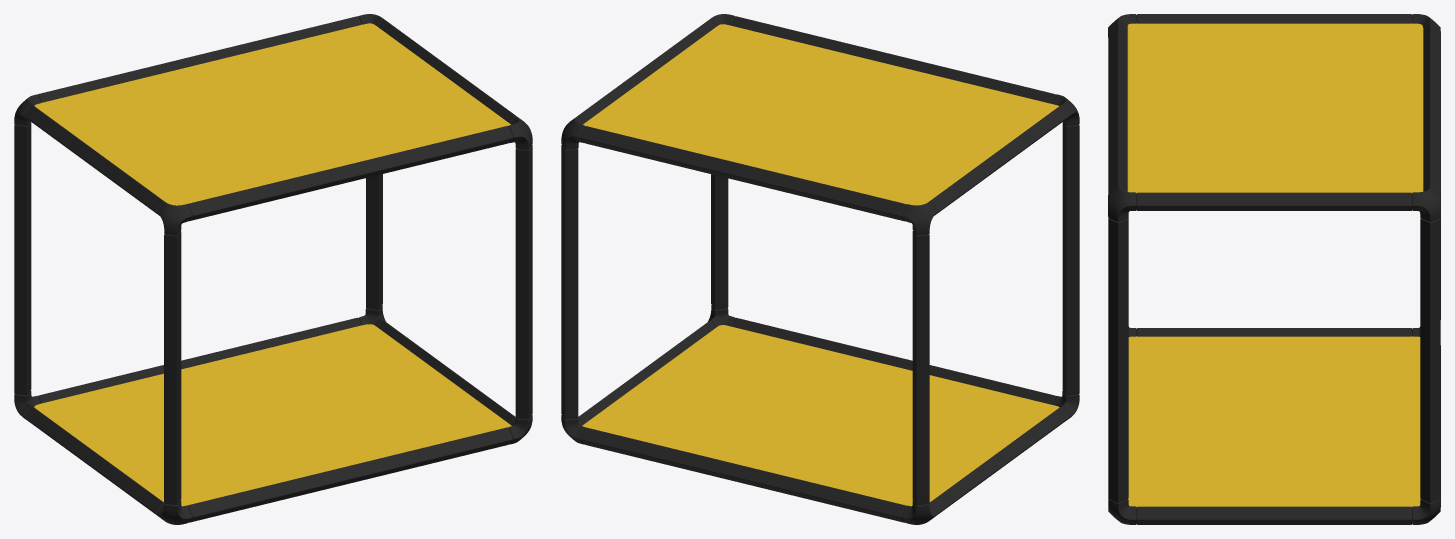
3 views of the same model, side by side, from view 1: azimuth 30°, elevation 25°; view 2: azimuth 150°, elevation 25°; view 3: azimuth 270°, elevation 25° (orthographic). The views are drawn at different scales.
Visible parts, largest first — view 1: 523x374x420; view 2: 523x374x420; view 3: 523x374x420.
Boxes of the visible parts, x1,y1,x2,y2 form: 523x374x420: (14, 14, 532, 524); 523x374x420: (561, 14, 1079, 524); 523x374x420: (1108, 14, 1440, 524).
Bounding box in the file's own units: 0.6007 × 0.4976 × 0.4513.
